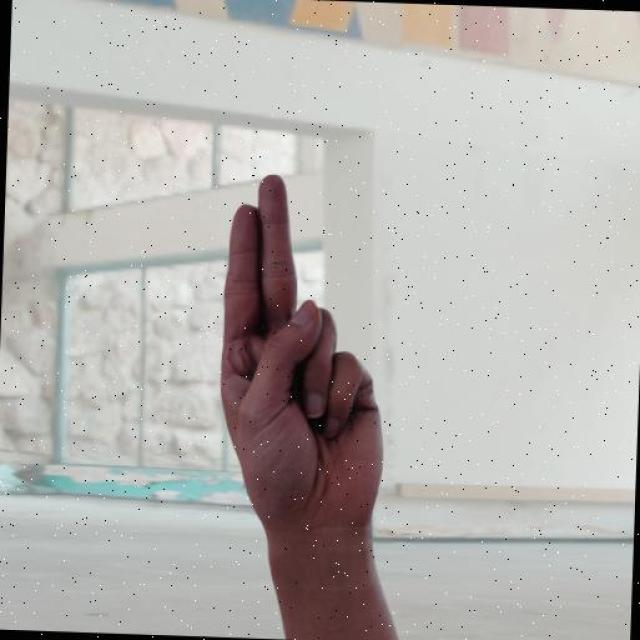U: (209, 168, 397, 532)
